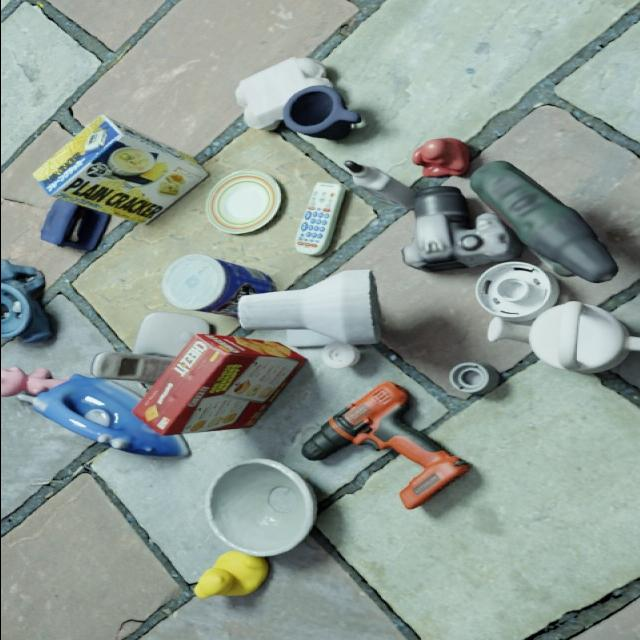Other Objects: (301, 383, 468, 510), (204, 459, 316, 557), (487, 302, 639, 374), (235, 58, 331, 131), (161, 255, 273, 317), (475, 262, 559, 326), (204, 171, 279, 236), (283, 86, 359, 140), (293, 184, 344, 257), (40, 200, 109, 252), (193, 551, 265, 598), (343, 162, 413, 210), (89, 352, 172, 384), (411, 138, 469, 177), (0, 368, 63, 397), (448, 363, 499, 395)
